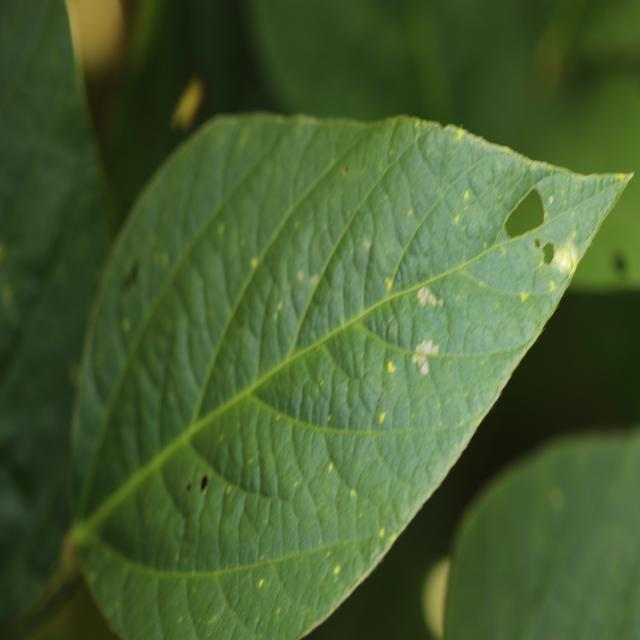Soybean: (60, 112, 634, 640)
downey_mildew: (64, 223, 135, 524), (471, 473, 584, 624), (363, 373, 490, 506), (531, 0, 640, 103), (274, 234, 361, 336), (386, 293, 456, 415), (245, 564, 305, 626), (428, 122, 510, 163), (1, 441, 37, 507), (566, 169, 634, 203), (421, 559, 450, 635), (534, 34, 570, 91), (386, 119, 425, 169), (173, 80, 204, 127), (401, 115, 440, 142), (534, 238, 563, 274), (58, 523, 78, 569), (146, 238, 172, 272), (256, 463, 279, 496), (70, 515, 91, 549), (185, 472, 211, 498), (120, 262, 139, 293), (415, 284, 437, 306), (611, 248, 629, 273), (549, 487, 565, 510), (1, 283, 13, 305), (69, 362, 81, 382), (456, 126, 466, 140), (121, 318, 130, 332), (403, 207, 413, 219), (0, 245, 6, 265), (388, 533, 397, 545), (533, 237, 542, 249), (185, 481, 193, 494), (363, 238, 371, 250), (520, 291, 528, 303), (297, 269, 304, 282), (379, 411, 386, 424), (208, 615, 217, 625), (217, 223, 225, 234), (341, 165, 349, 176), (250, 258, 258, 268), (276, 300, 283, 311), (548, 194, 555, 205), (463, 189, 470, 200), (500, 247, 507, 257), (333, 565, 340, 575), (362, 251, 369, 261), (413, 120, 420, 130), (454, 214, 460, 225), (379, 527, 385, 538), (318, 235, 324, 246), (618, 173, 626, 181), (350, 488, 357, 497), (328, 462, 334, 472), (258, 578, 264, 588), (539, 260, 546, 268), (478, 280, 485, 288), (571, 230, 577, 239), (342, 209, 348, 218), (255, 614, 260, 624), (226, 485, 232, 493), (414, 199, 420, 207), (275, 413, 281, 421), (177, 616, 183, 624), (219, 433, 225, 441), (294, 221, 300, 229), (273, 312, 278, 321), (327, 414, 332, 422), (294, 480, 299, 488), (248, 457, 253, 465), (264, 559, 270, 565), (455, 294, 460, 301), (483, 241, 487, 249)
